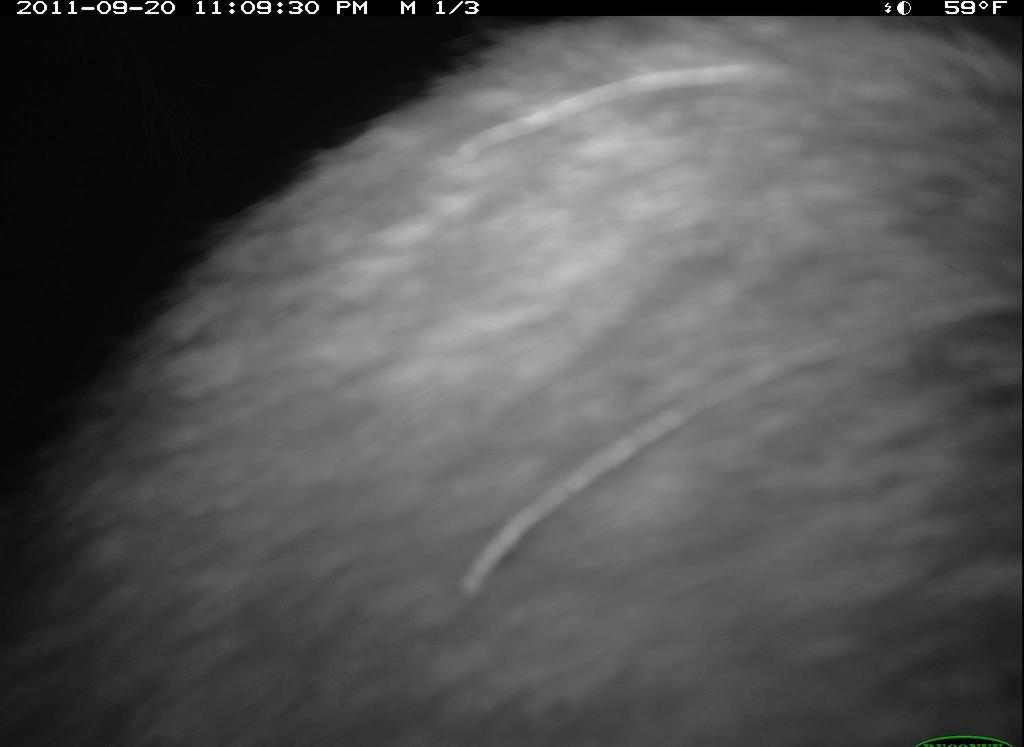raccoon: (52, 11, 1023, 747)
